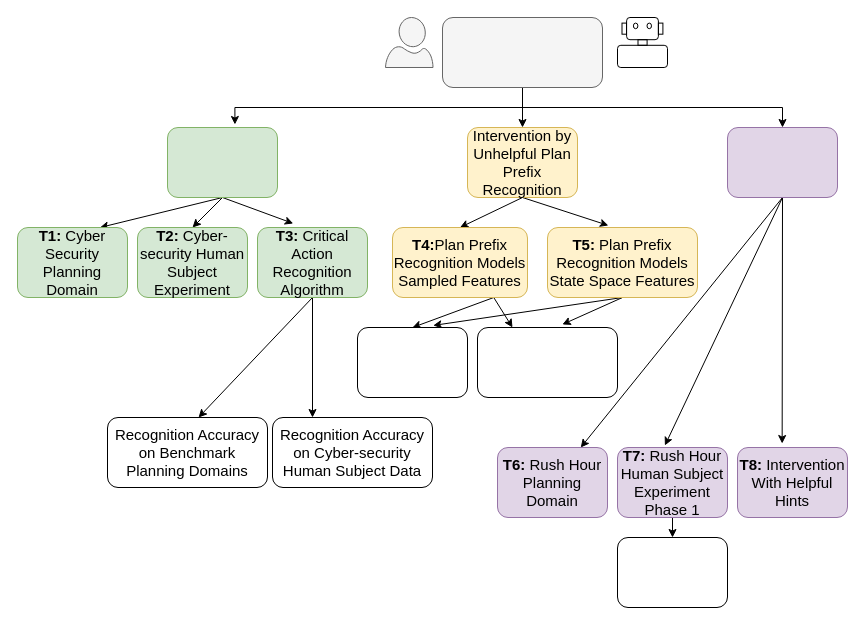
The diagram is 865 pixels wide and 625 high, and some of its shapes have lost their labels. The shapes that lost their labels are listed below. From the top down, each one's centre as x and y in pixels, then its label:
At pixel 522 52: "Assistive Intervention".
At pixel 222 162: "Intervention by Critical Action Recognition".
At pixel 782 162: "Intervention by User Behavior Classification".
At pixel 412 362: "Recognition Accuracy".
At pixel 547 362: "Benchmark Against Existing Recognition Algorithms".
At pixel 672 572: "User Behavior Features".
